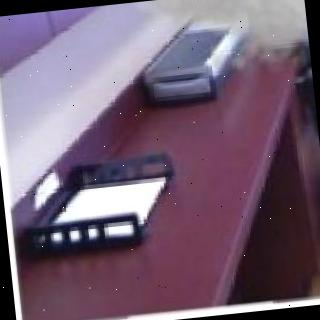smoke: (96, 0, 309, 70)
